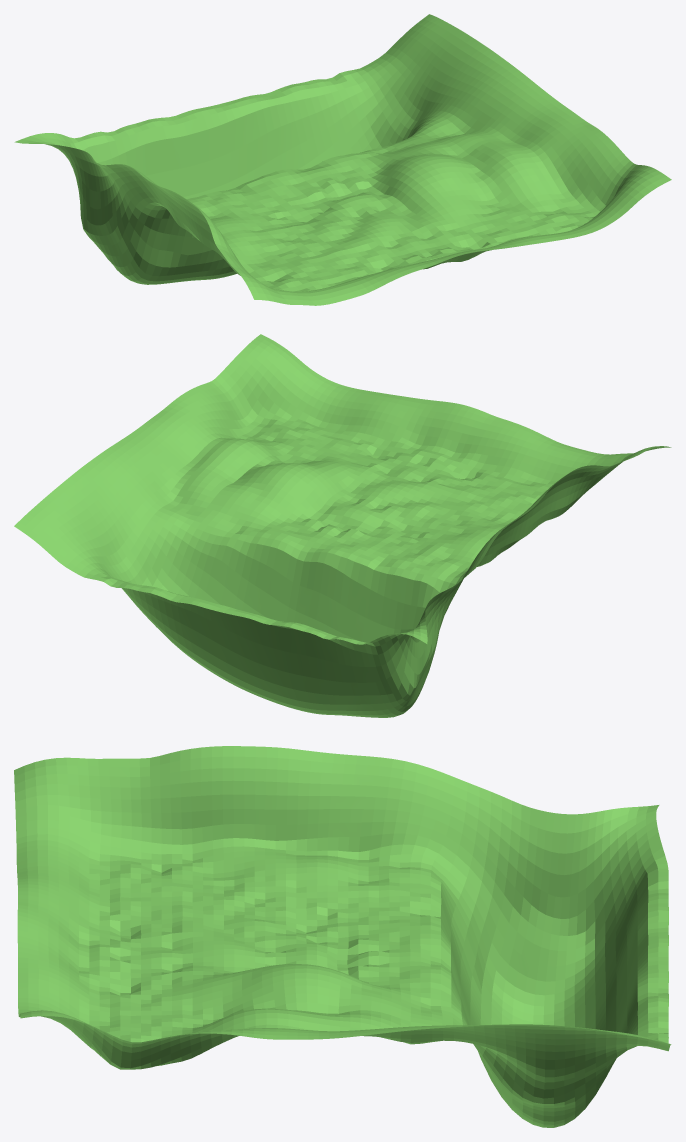
Rendered from prototype-terrain 1.fbx.
3 renders of one model, top to bottom at view 1: azimuth 30°, elevation 25°; view 2: azimuth 150°, elevation 25°; view 3: azimuth 270°, elevation 25°, orthographic. The views are drawn at different scales.
Parts seen in each view (by area): view 1: Plane; view 2: Plane; view 3: Plane.
Boxes of the visible parts, x1=… form: Plane: x1=14, y1=14, x2=671, y2=305; Plane: x1=14, y1=334, x2=671, y2=717; Plane: x1=14, y1=746, x2=671, y2=1127.
Bounding box in the file's own units: 5044 × 2156 × 5113.
